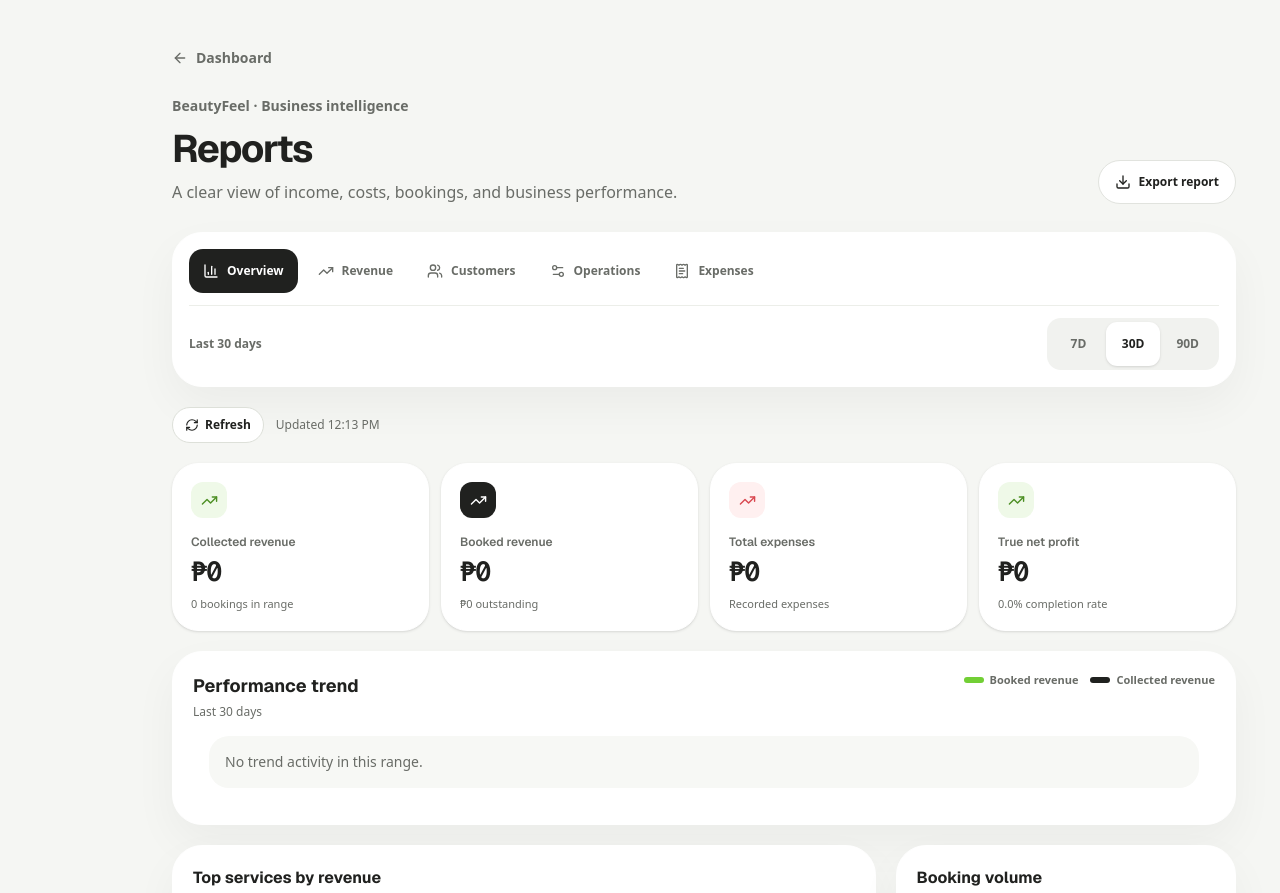
it: owner Growth and Reports preview cache › disables unsupported Expenses export with an explanation
This screenshot has width=1280, height=893.
Click the tab "Expenses": (714, 271) [660,249,768,293]
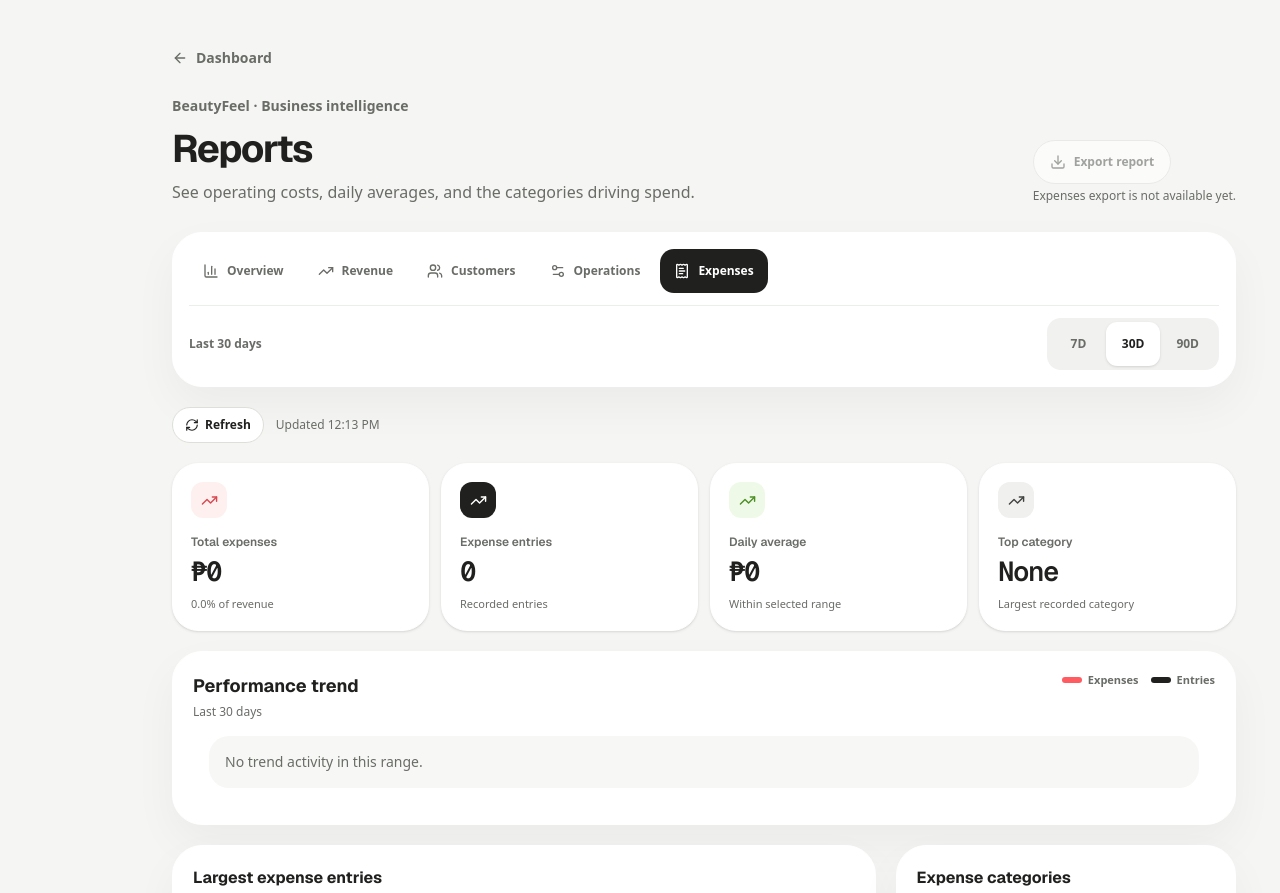
expect the button "Export report" is disabled: met, box [1033,140,1171,184]
expect the text "Expenses export is not available yet." is shown: met, box [1033,188,1236,204]
